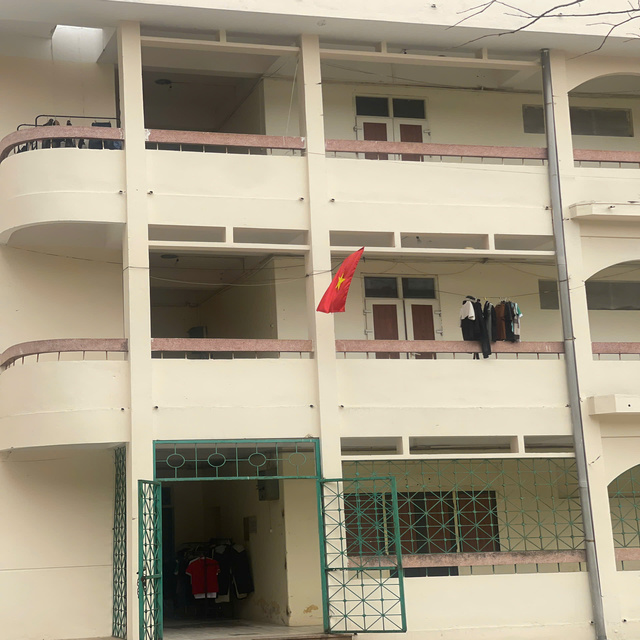laco: (316, 243, 367, 320)
